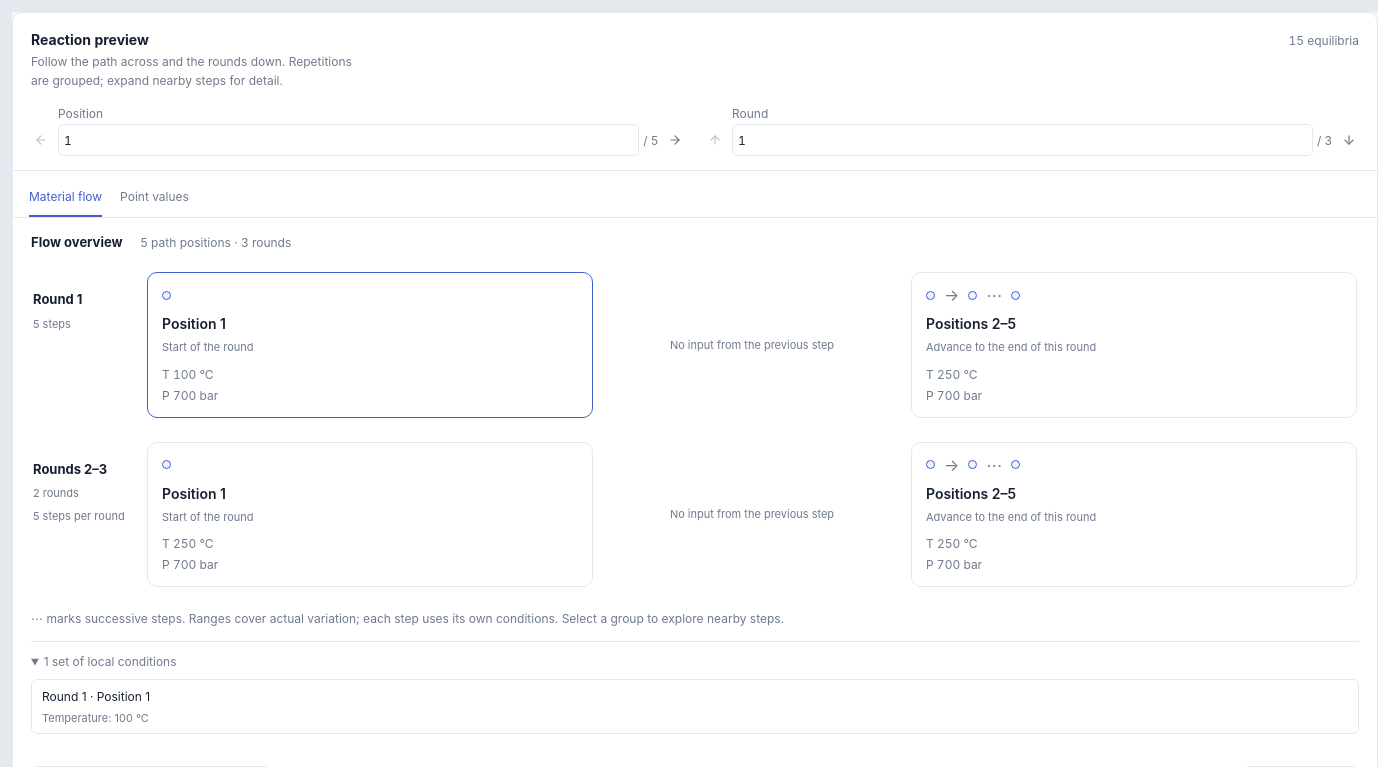
Test: lists first-point overrides in a 5 by 3 flow and navigates to them
Expected: the heading "1 set of local conditions" is shown, [44,654,176,669]
Click the button "Round 1 · Position 1 Temperature: 100 °C" at [96, 696], box [31,679,1359,734]
(page scrolled)
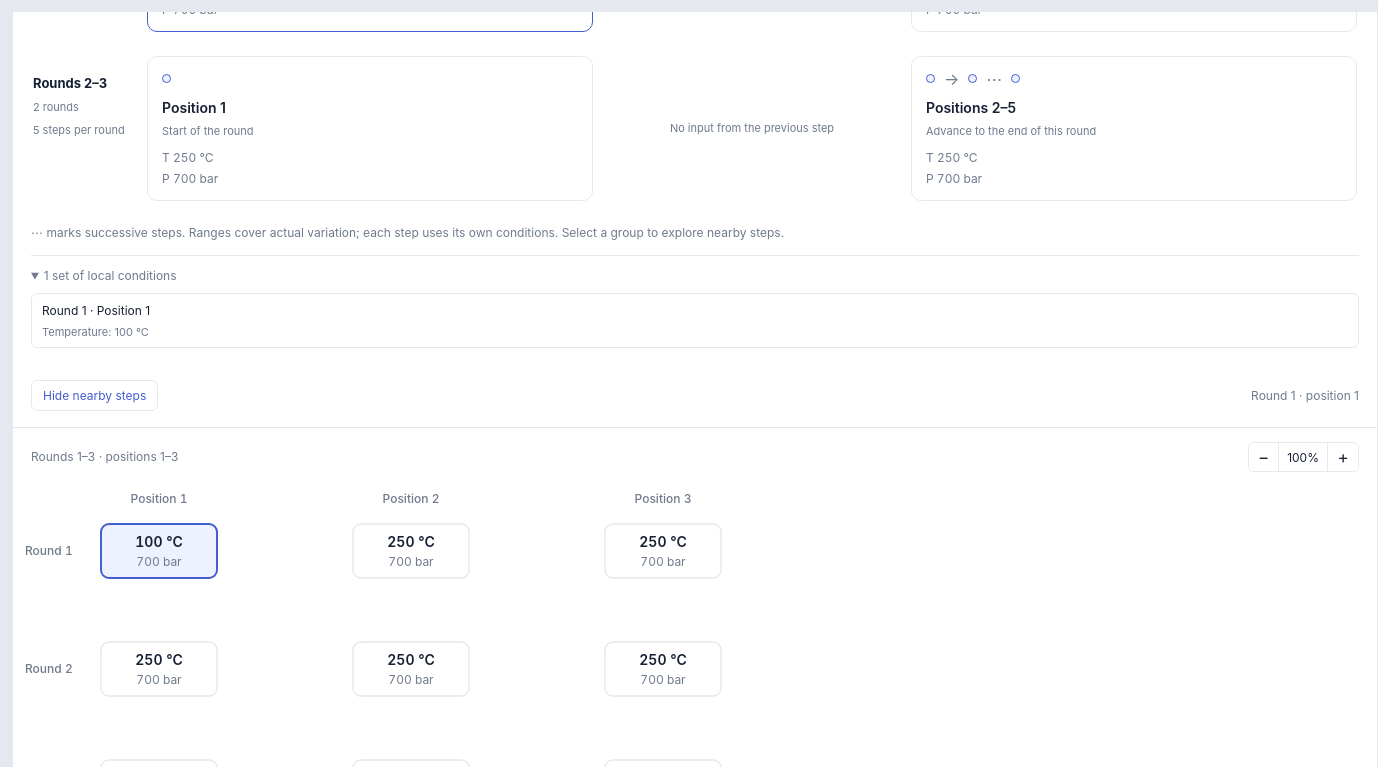
Now the button "Hide nearby steps" is expanded, box [31,380,158,411]
